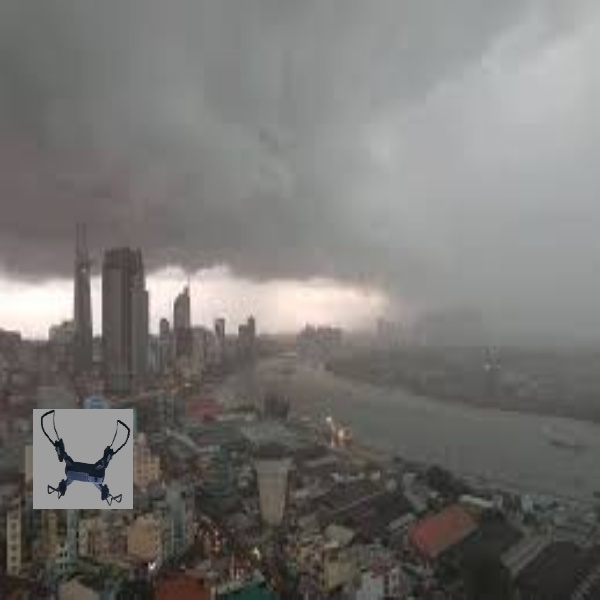drone: (33, 406, 130, 510)
